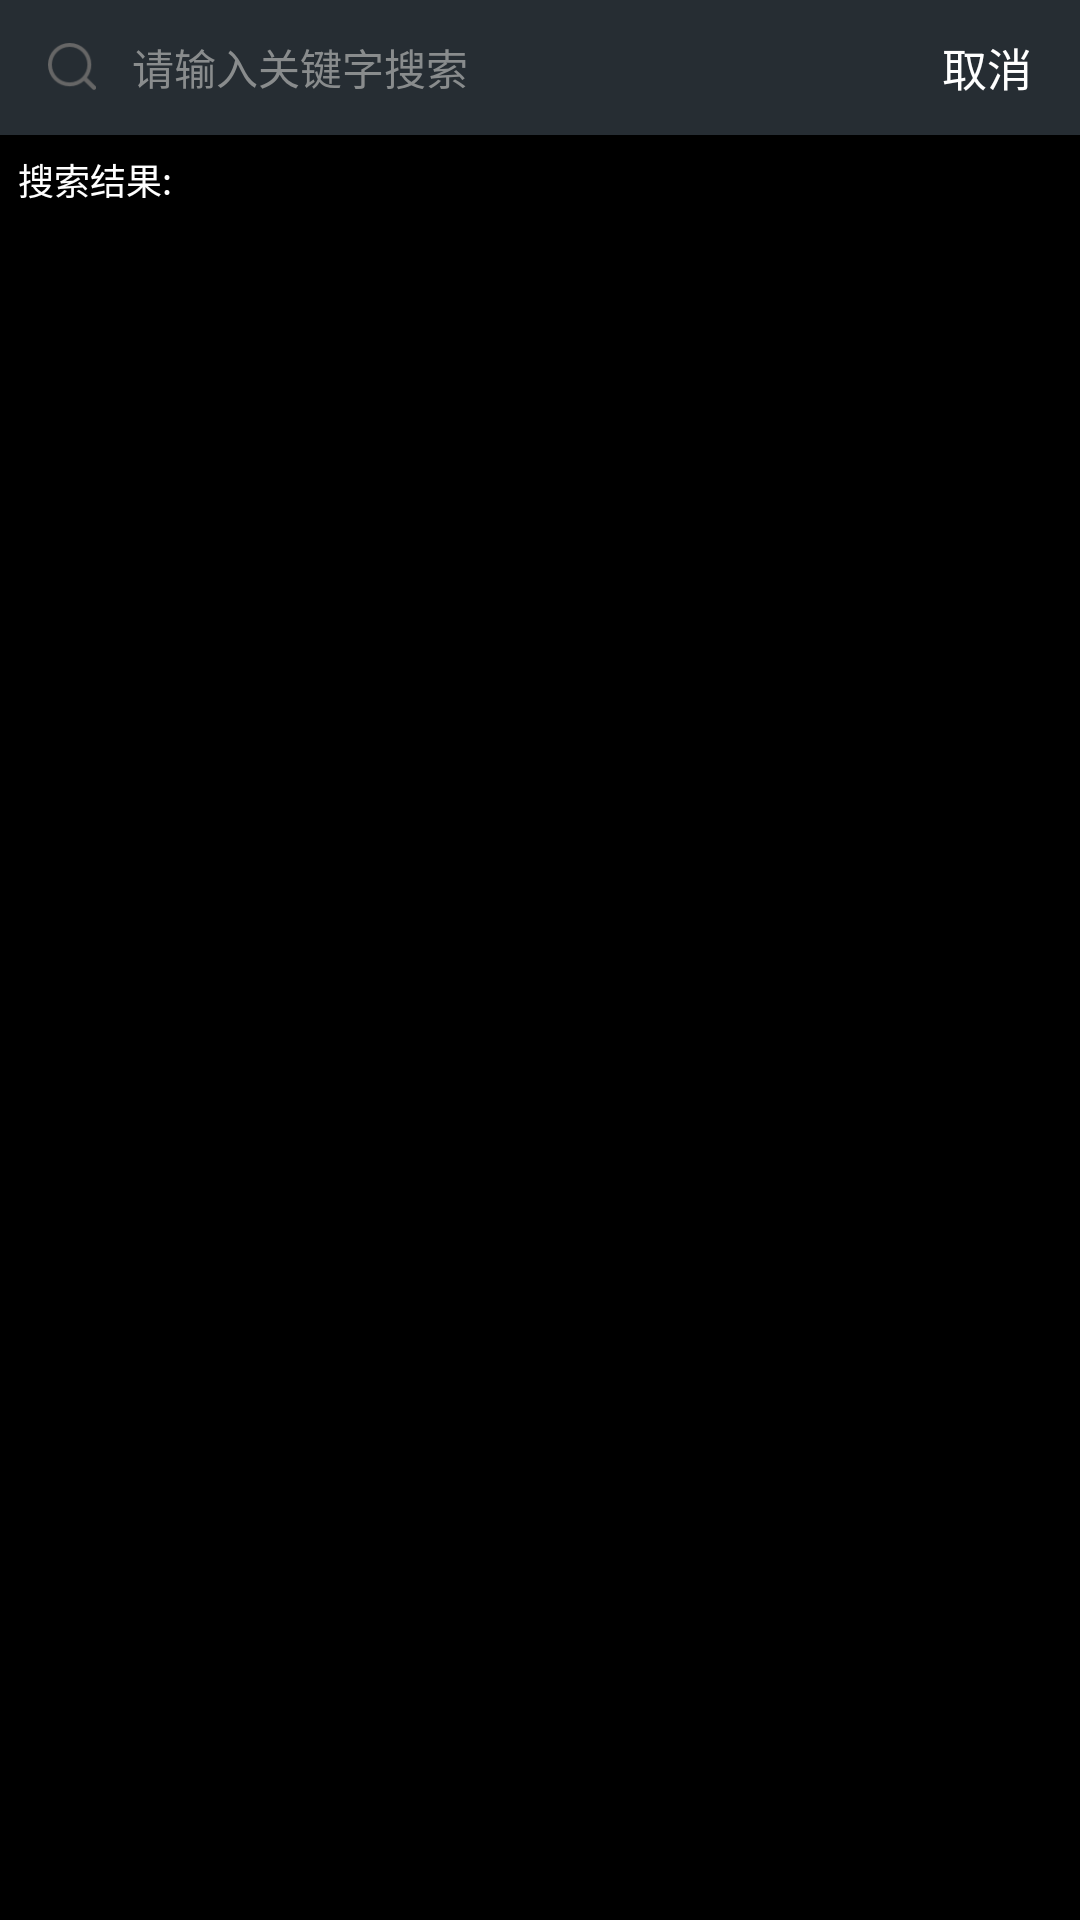

Named icons in this screenshot (1080x1920) and their centers, (x=x, y=y):
search: (x=72, y=66)
